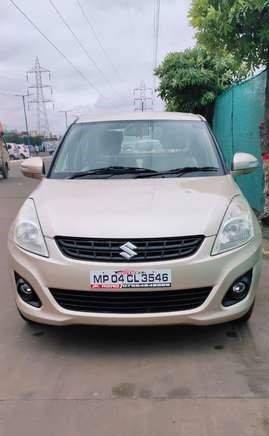MP04CL3546: (90, 269, 171, 287)
